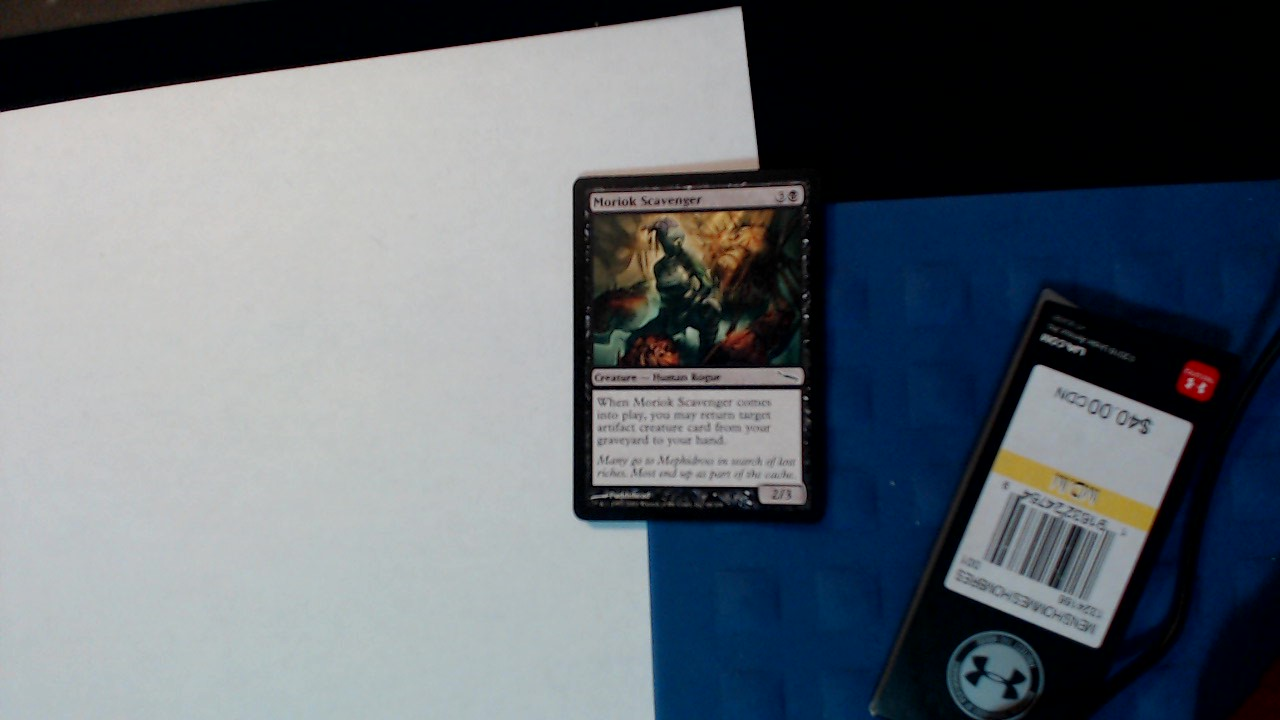MTG Card: (563, 162, 839, 529)
